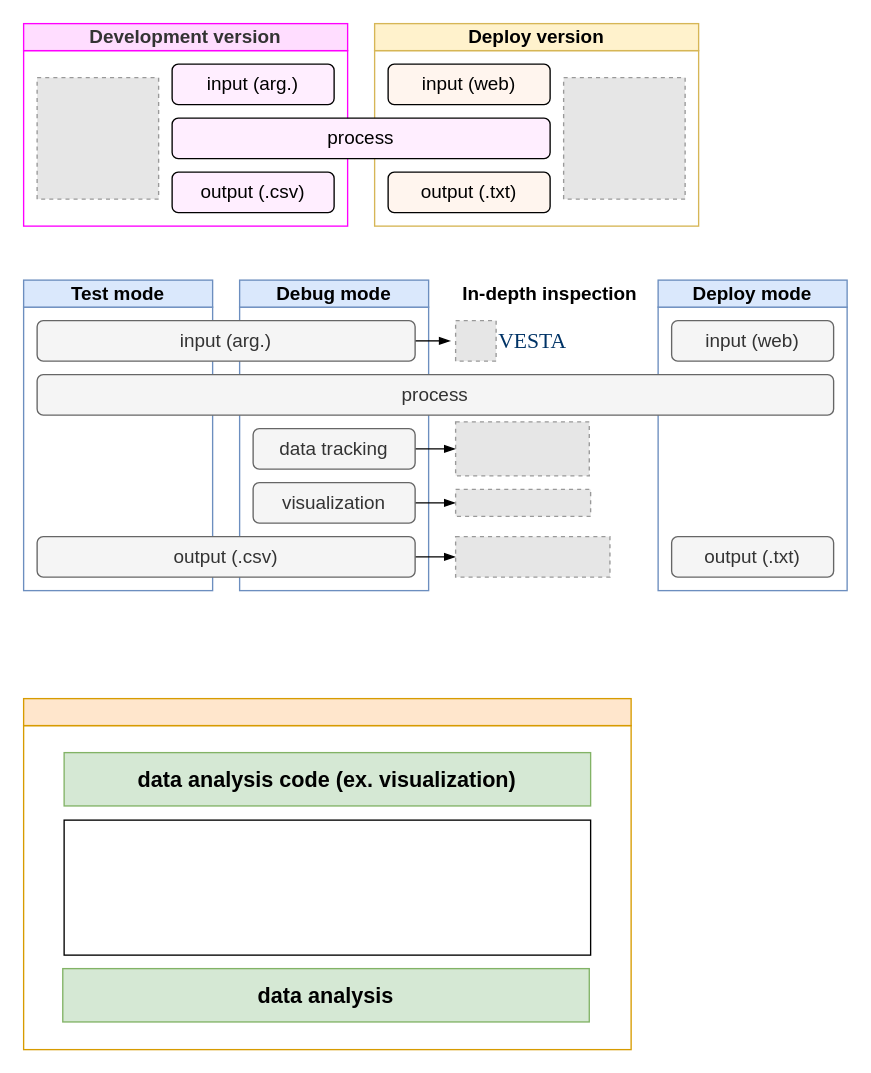
Some shapes in this 871 by 1073 pixel diagram are drawn without their labels. Grey dashed boxes stand in for pictures. Each missing label, with the centre of its shape:
"Jupyter Notebook" goes at [326,711].
"main code" goes at [327,887].
